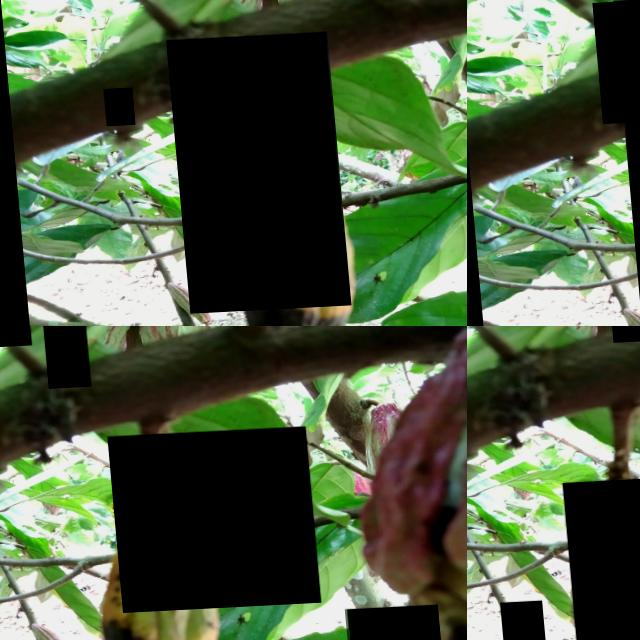Fitoftora: (163, 36, 343, 315), (103, 431, 314, 616), (557, 480, 640, 640), (590, 1, 640, 125)
Sana: (337, 610, 438, 640), (40, 326, 87, 390), (492, 602, 538, 640), (100, 89, 130, 127), (0, 326, 29, 349)
